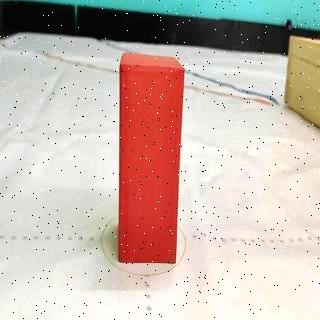redbox: (116, 50, 186, 263)
